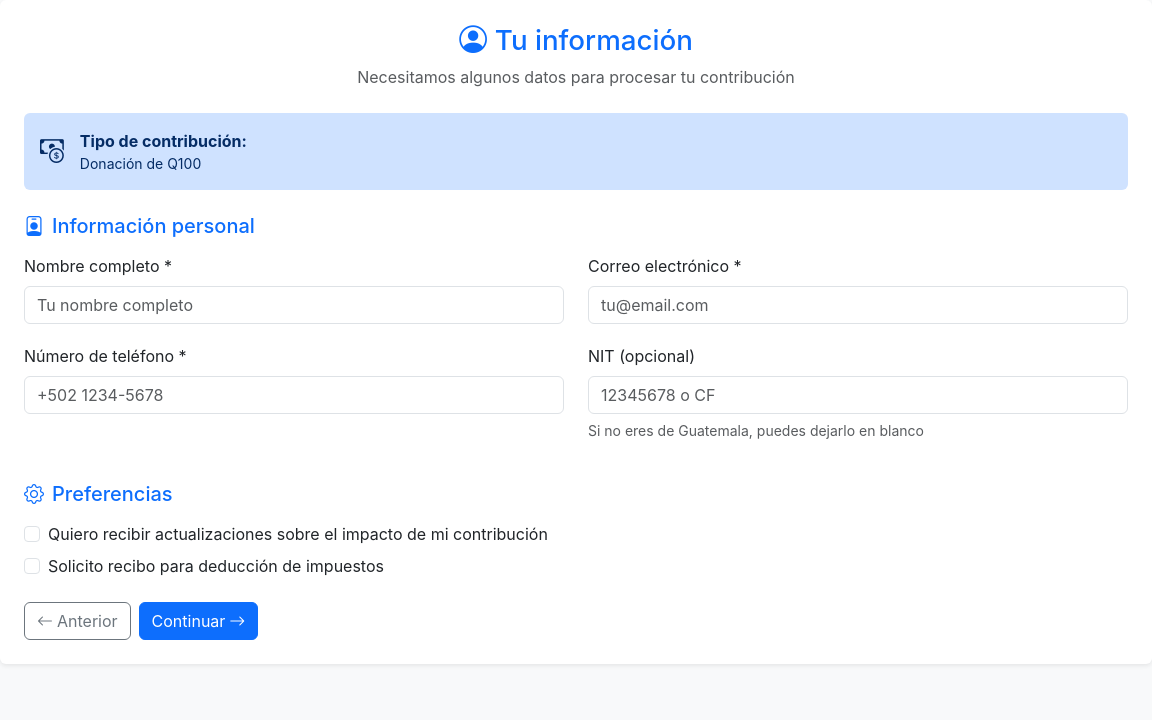
Scenario: DonorInformation › validates Guatemala phone number format - international format
Test invalid international - too few digits
Type "+502 1234567" into the field labelled "Número de teléfono *" at x=294, y=395, box [24,376,564,414]
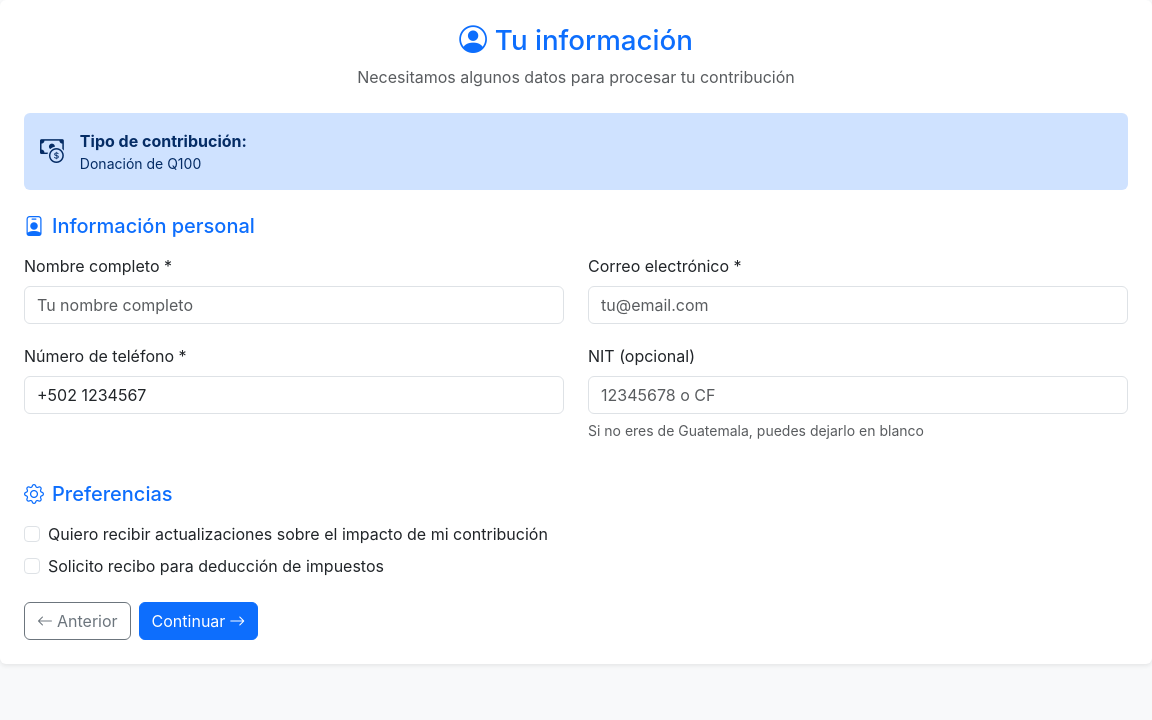
Click the button "Continuar" at x=198, y=621, box [139,602,258,640]
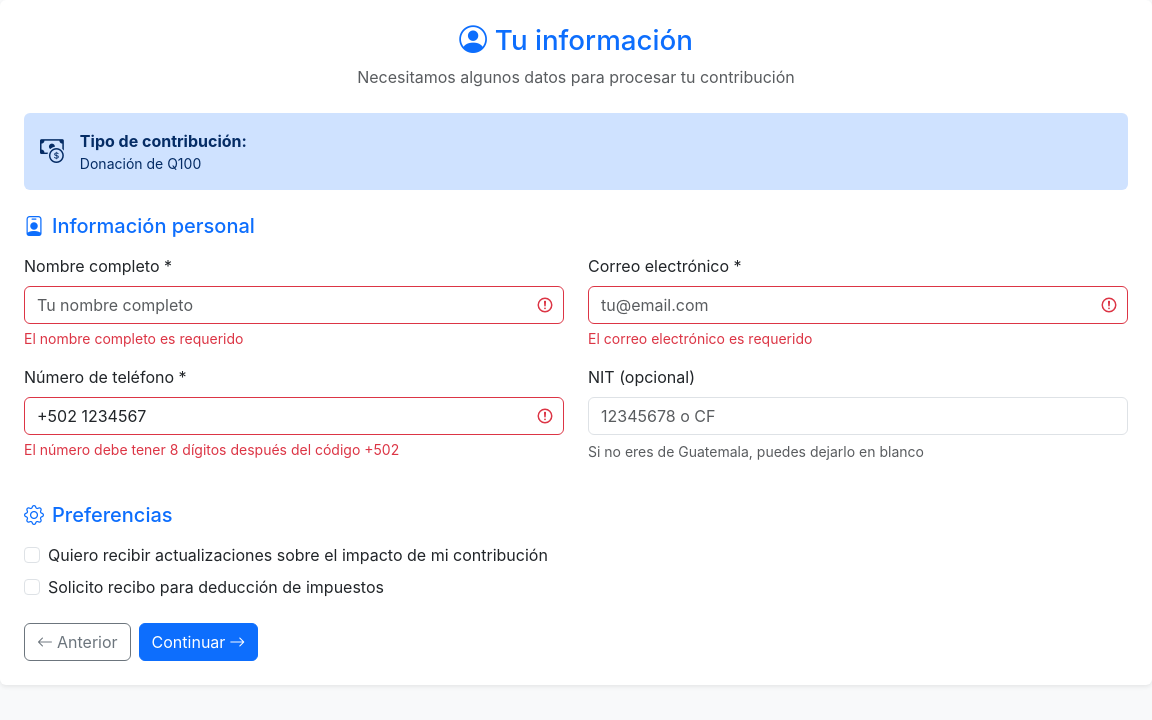
Expected: the text "El número debe tener 8 dígitos después del código +502" is shown, [24,441,399,458]
